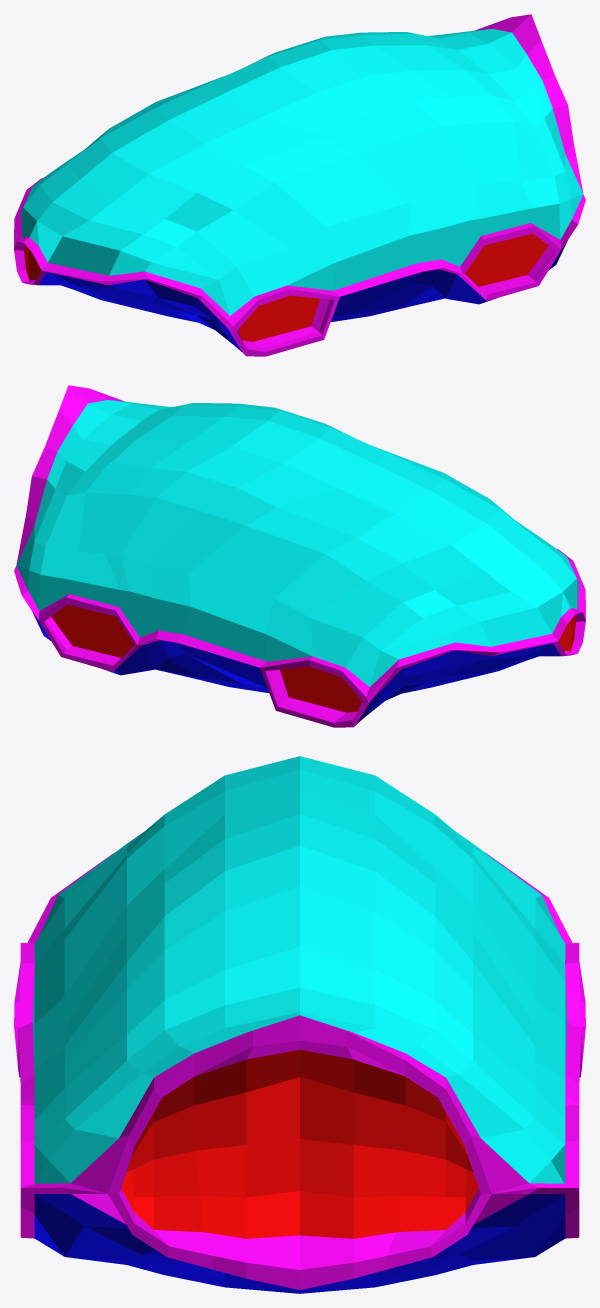
File: Mo_Tweasel_Body.fbx
3 renders of one model, top to bottom at view 1: azimuth 30°, elevation 25°; view 2: azimuth 150°, elevation 25°; view 3: azimuth 270°, elevation 25°, orthographic. The views are drawn at different scales.
Visible parts, largest first — view 1: Body.001; view 2: Body.001; view 3: Body.001.
Part boxes in pixels (x1,y1,x2,y2): Body.001: (14,14,585,356); Body.001: (14,385,585,727); Body.001: (14,756,585,1293).
Bounding box in the file's own units: 1114 × 534 × 694.
